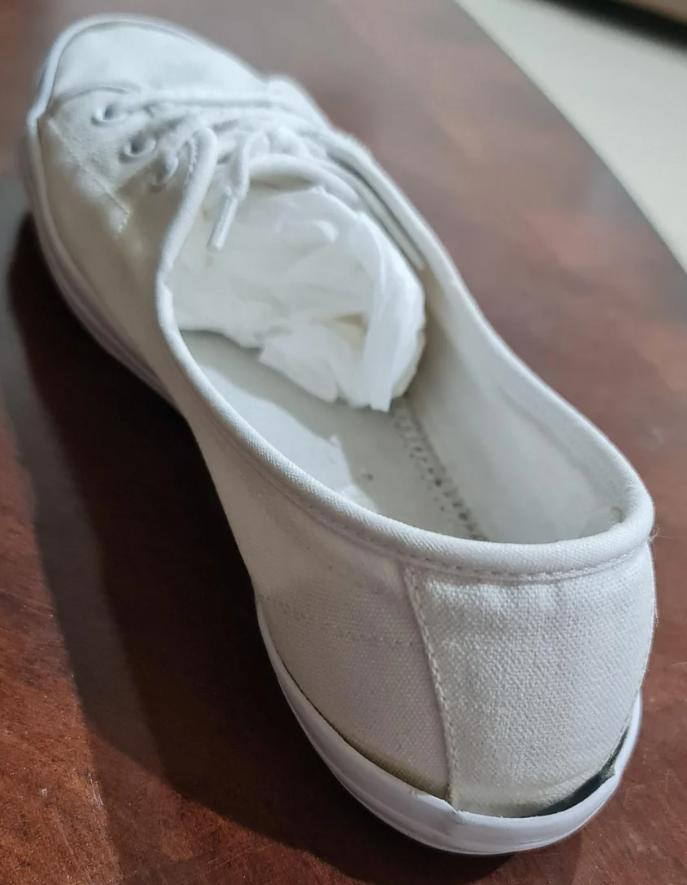bonding: (349, 730, 648, 830)
